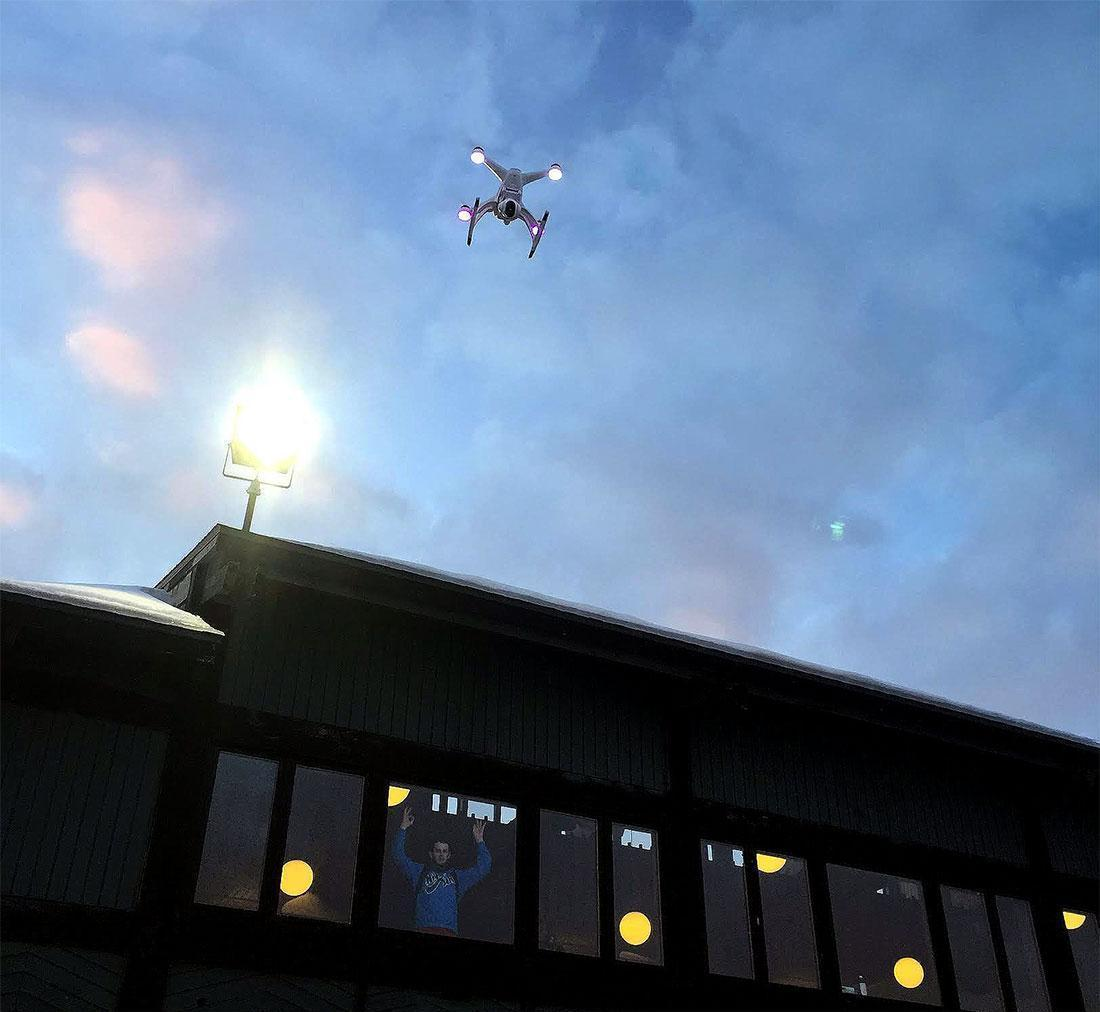UAV: (454, 146, 572, 259)
